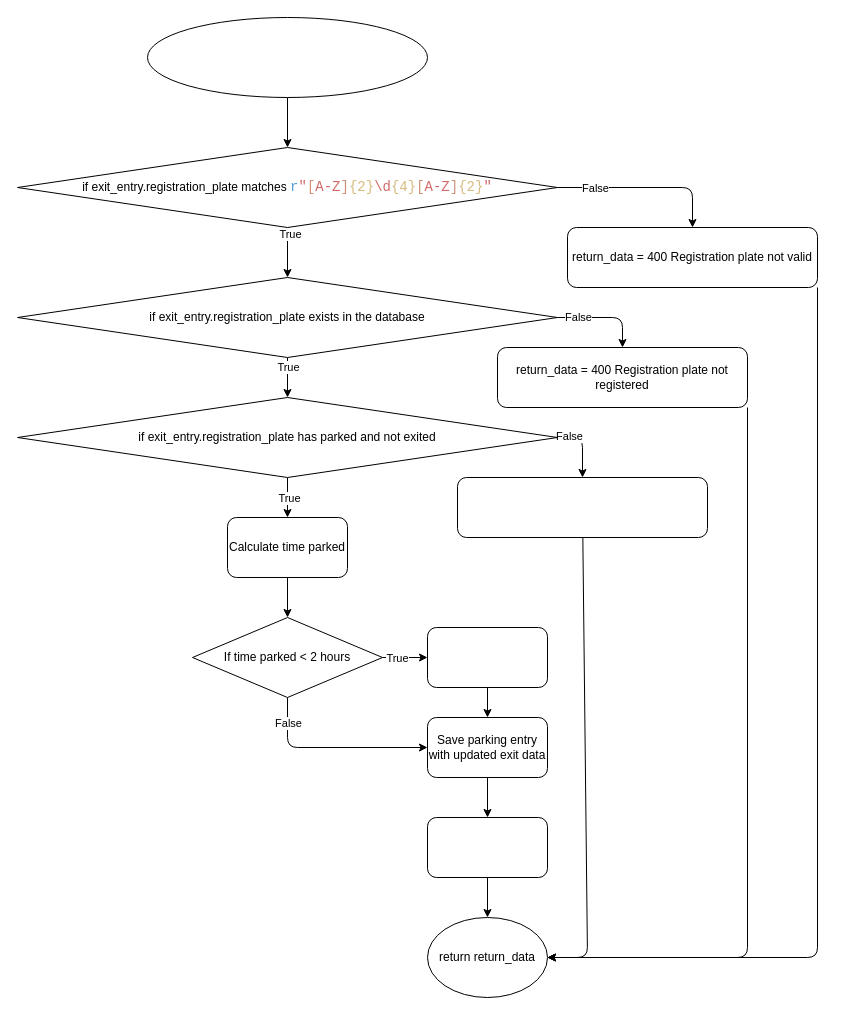
This 843x1015 diagram has some shape labels left out. Each missing label, with the centre of its shape:
"entry_exit(exit_entry: ExitEntryModel)" belongs at point (287, 57).
"Parking is paid" belongs at point (487, 657).
"return_data = 200 Exit success" belongs at point (487, 847).
"return_data = 409 Vehicle never parked" belongs at point (582, 507).
